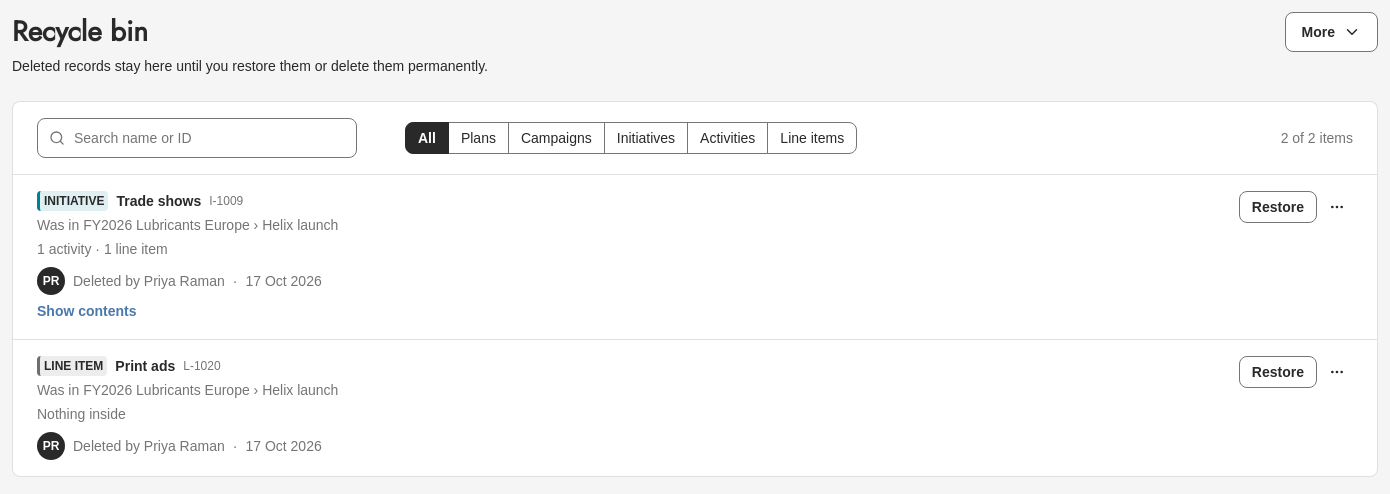
Test: RecycleBinPage › filters by record type with the pills (FR-016)
The image size is (1390, 494).
Click the button "Line items".
click(812, 138)  # box [767, 122, 857, 154]
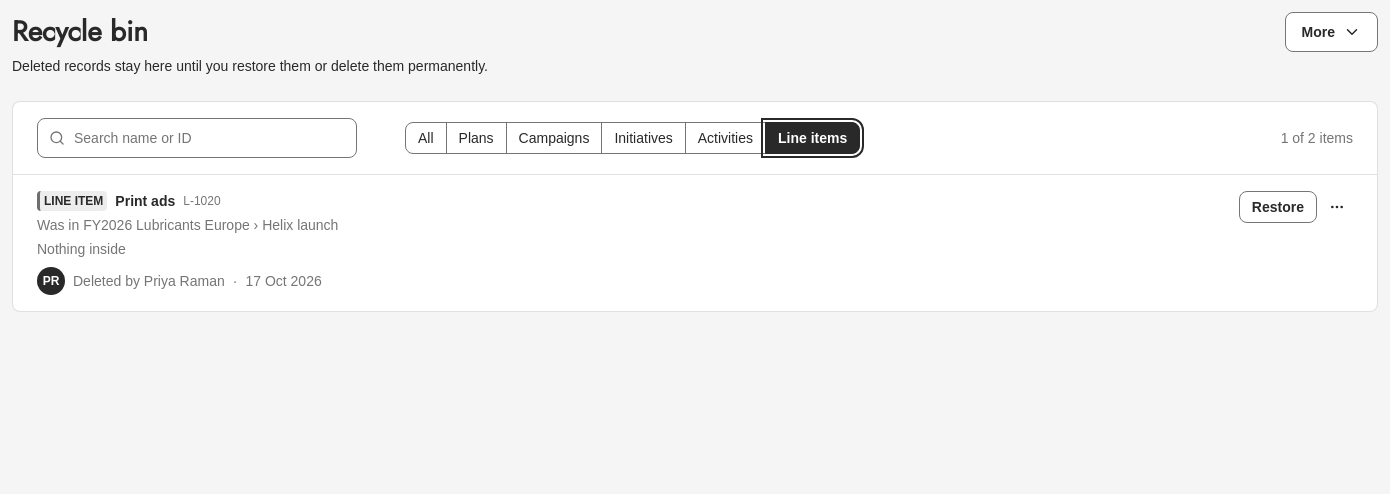
Check: the text "1 of 2 items" is shown, box [1281, 128, 1353, 148]
